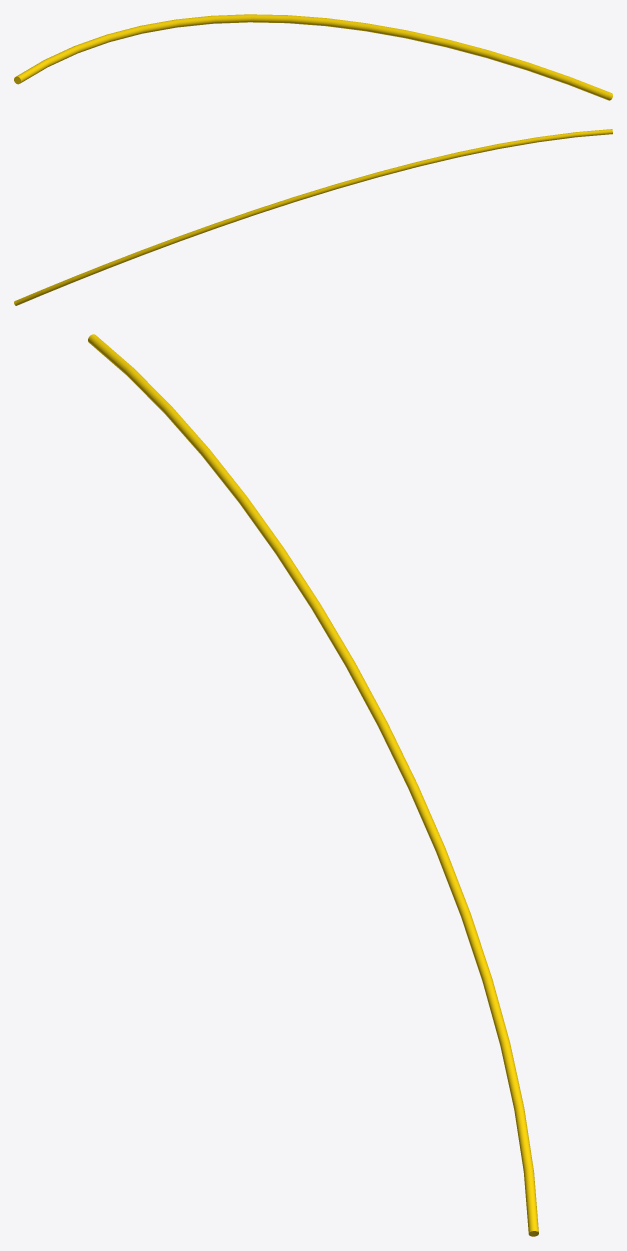
Rendered from Event_420094457_track_40.fbx.
3 renders of one model, top to bottom at view 1: azimuth 30°, elevation 25°; view 2: azimuth 150°, elevation 25°; view 3: azimuth 270°, elevation 25°, orthographic. The views are drawn at different scales.
Parts seen in each view (by area): view 1: Model; view 2: Model; view 3: Model.
Part boxes in pixels (x1,y1,x2,y2): Model: [14, 14, 612, 100]; Model: [14, 129, 612, 305]; Model: [88, 334, 538, 1236].
Size of the model in its own units: 4.36 by 1.83 by 1.74.
